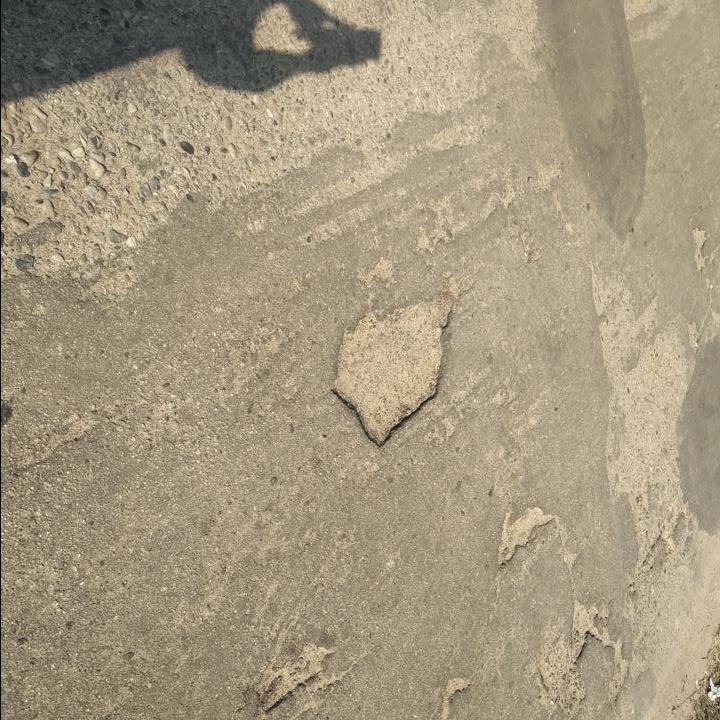pothole: (328, 286, 462, 450), (259, 639, 337, 714), (492, 503, 557, 571), (565, 594, 611, 666)
